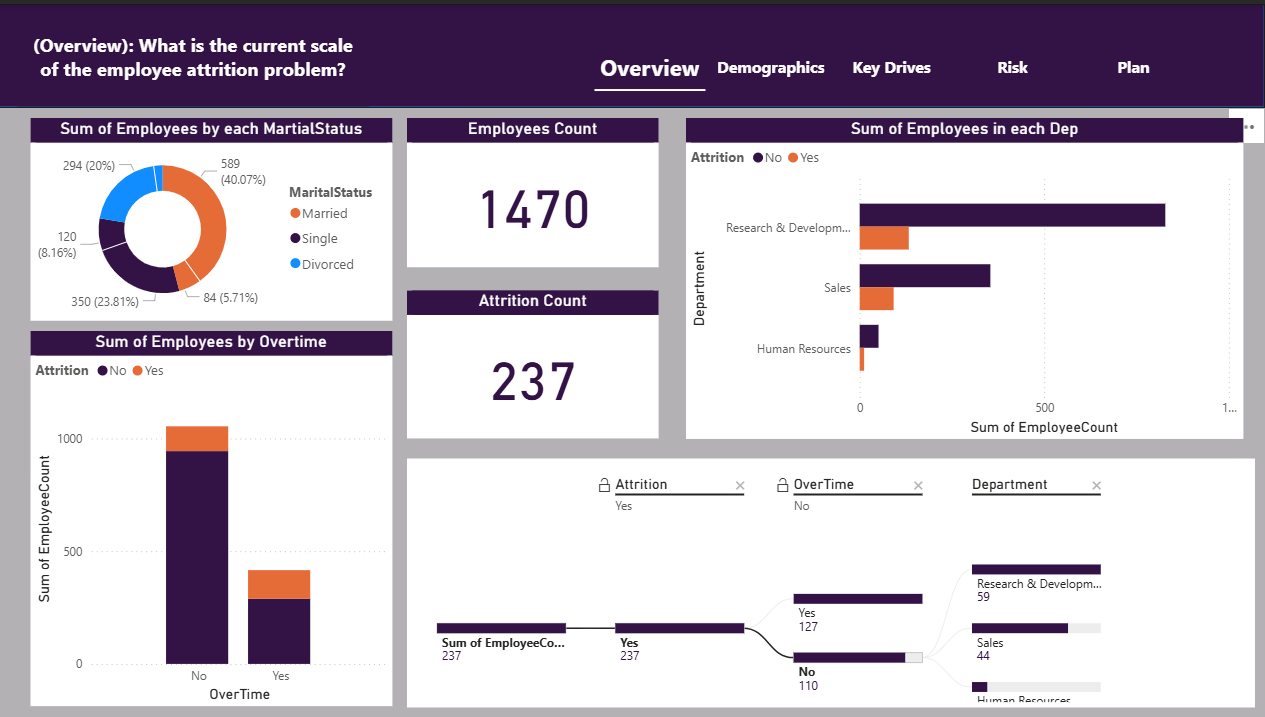

What the dashboard file says about the page in this screenshot:
{"tool":"powerbi","page":{"name":"Overview","canvas":[1280,720],"ordinal":0},"visuals":[{"type":"shape","box":[0,0,1277.5,104.3],"z":0},{"type":"card","title":" Employees Count","fields":{"Values":["Sum(WA_Fn-UseC_-HR-Employee-Attrition.EmployeeCount)"]},"box":[411.7,115.3,253.9,150.9],"z":1000},{"type":"decompositionTreeVisual","fields":{"Analyze":["Sum(WA_Fn-UseC_-HR-Employee-Attrition.EmployeeCount)"],"ExplainBy":["WA_Fn-UseC_-HR-Employee-Attrition.Attrition","WA_Fn-UseC_-HR-Employee-Attrition.OverTime","WA_Fn-UseC_-HR-Employee-Attrition.Department"]},"box":[411.7,458.3,856.3,251.1],"z":2000},{"type":"card","title":"Attrition Count","fields":{"Values":["Sum(WA_Fn-UseC_-HR-Employee-Attrition.Attrition_Count)"]},"box":[411.7,289.5,253.9,149.6],"z":3000},{"type":"clusteredBarChart","title":"Sum of Employees in each Dep","fields":{"Y":["Sum(WA_Fn-UseC_-HR-Employee-Attrition.EmployeeCount)"],"Category":["WA_Fn-UseC_-HR-Employee-Attrition.Department"],"Series":["WA_Fn-UseC_-HR-Employee-Attrition.Attrition"]},"box":[693,115.3,562.6,323.8],"z":4000},{"type":"columnChart","title":"Sum of Employees by Overtime ","fields":{"Category":["WA_Fn-UseC_-HR-Employee-Attrition.OverTime"],"Y":["Sum(WA_Fn-UseC_-HR-Employee-Attrition.EmployeeCount)"],"Series":["WA_Fn-UseC_-HR-Employee-Attrition.Attrition"]},"box":[31.6,330.7,365,378.7],"z":5000},{"type":"donutChart","title":"Sum of Employees by each MartialStatus","fields":{"Y":["Sum(WA_Fn-UseC_-HR-Employee-Attrition.EmployeeCount)"],"Series":["WA_Fn-UseC_-HR-Employee-Attrition.Attrition"],"Category":["WA_Fn-UseC_-HR-Employee-Attrition.MaritalStatus"]},"box":[31.6,115.3,365,204.5],"z":6000},{"type":"textbox","box":[17.8,23.3,355.4,81],"z":7000},{"type":"pageNavigator","box":[601.4,37.5,600.1,50],"z":8000}]}

Visuals, with their boxes in screenshot pixels (x1, y1, x2, y2), scaled from the page's 1280x720 canvas onto the 1265x717 screenshot:
shape: [left=0, top=0, right=1263, bottom=104]
" Employees Count" card: [left=407, top=115, right=658, bottom=265]
decompositionTreeVisual - Sum(WA_Fn-UseC_-HR-Employee-Attrition.EmployeeCount) x WA_Fn-UseC_-HR-Employee-Attrition.Attrition: [left=407, top=456, right=1253, bottom=706]
"Attrition Count" card: [left=407, top=288, right=658, bottom=437]
"Sum of Employees in each Dep" clusteredBarChart: [left=685, top=115, right=1241, bottom=437]
"Sum of Employees by Overtime " columnChart: [left=31, top=329, right=392, bottom=706]
"Sum of Employees by each MartialStatus" donutChart: [left=31, top=115, right=392, bottom=318]
textbox: [left=18, top=23, right=369, bottom=104]
pageNavigator: [left=594, top=37, right=1187, bottom=87]
